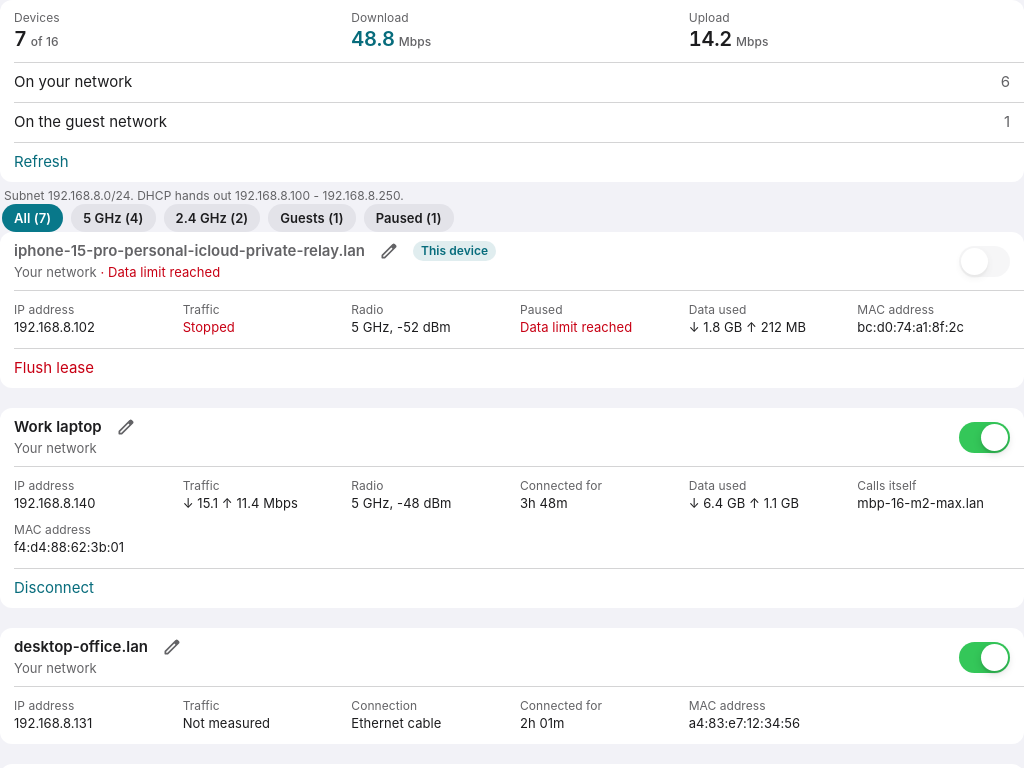
Test: filters › Paused shows only the paused devices, with its count
Click the radio button labelled "Paused (1)": click(409, 218) x1=364 y1=204 x2=454 y2=232
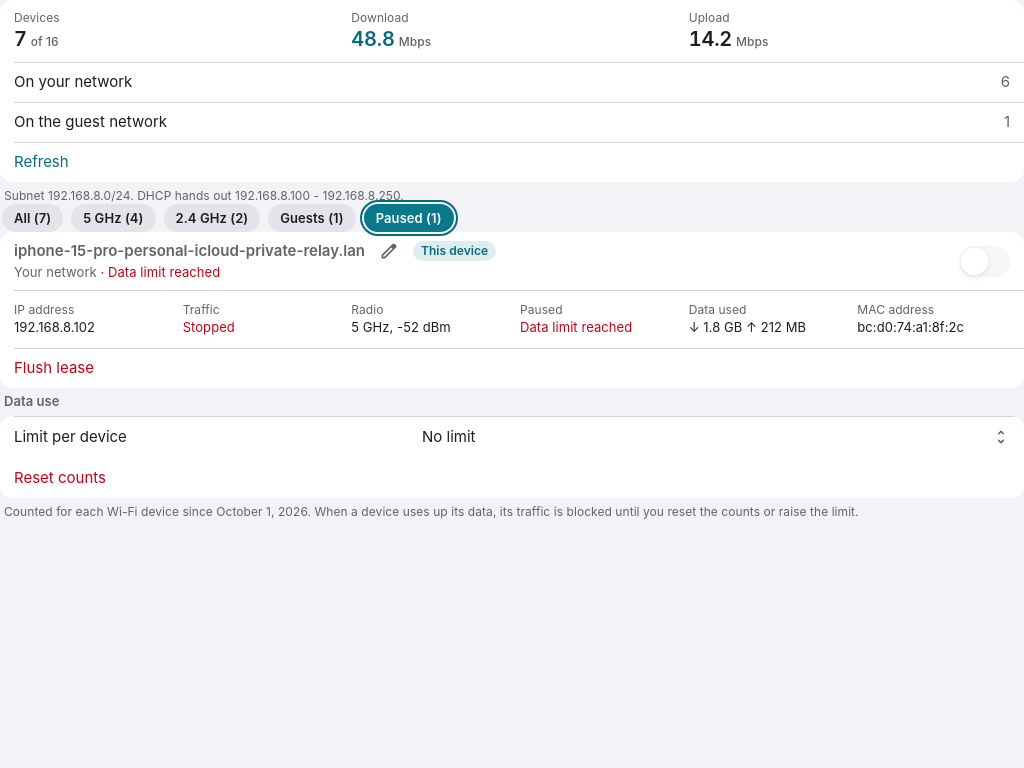
Check: the headings read "iphone-15-pro-personal-icloud-private-relay.lan", "Data use", in this order, box x1=14 y1=241 x2=365 y2=261; x1=4 y1=392 x2=60 y2=410
